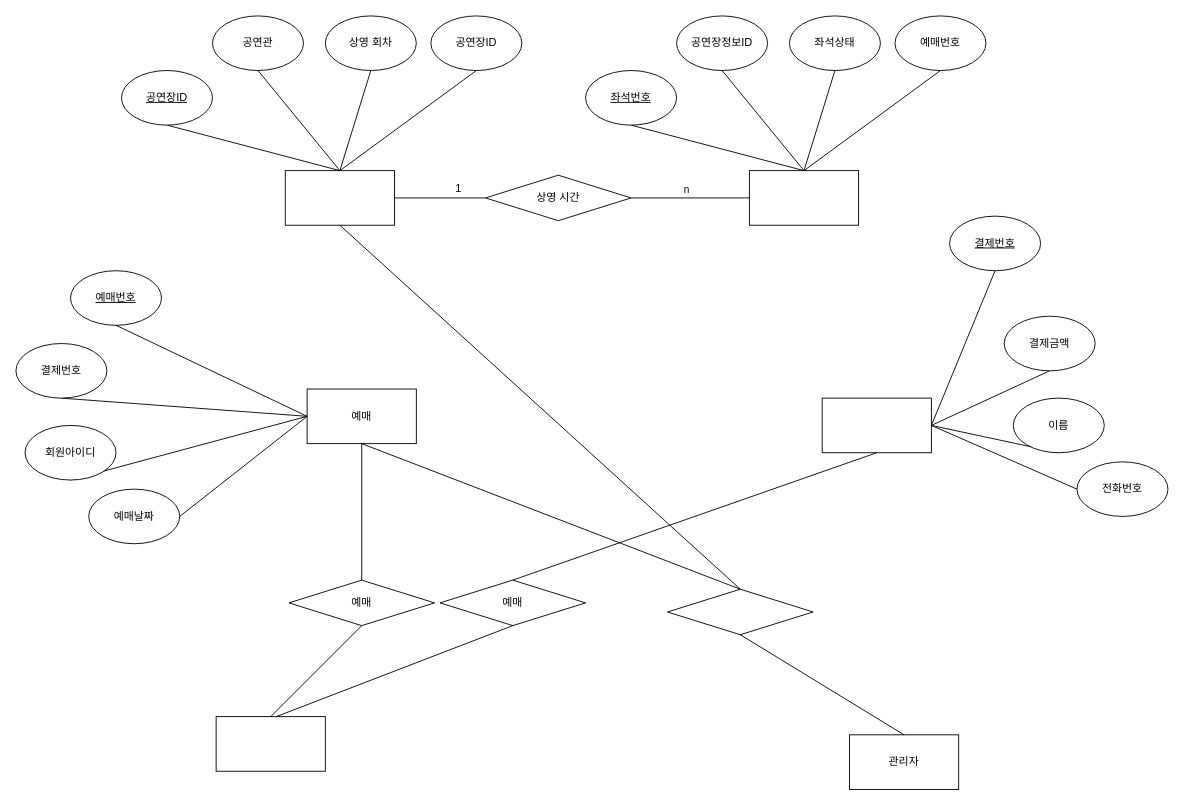
Some shapes in this 1184 by 805 pixel diagram are drawn without their labels. The centre of each missing label's shape, as x and y in pixels:
"결제" goes at [876,425].
"공연홀" goes at [339,197].
"관리" goes at [740,611].
"사용자" goes at [270,743].
"좌석" goes at [803,197].
